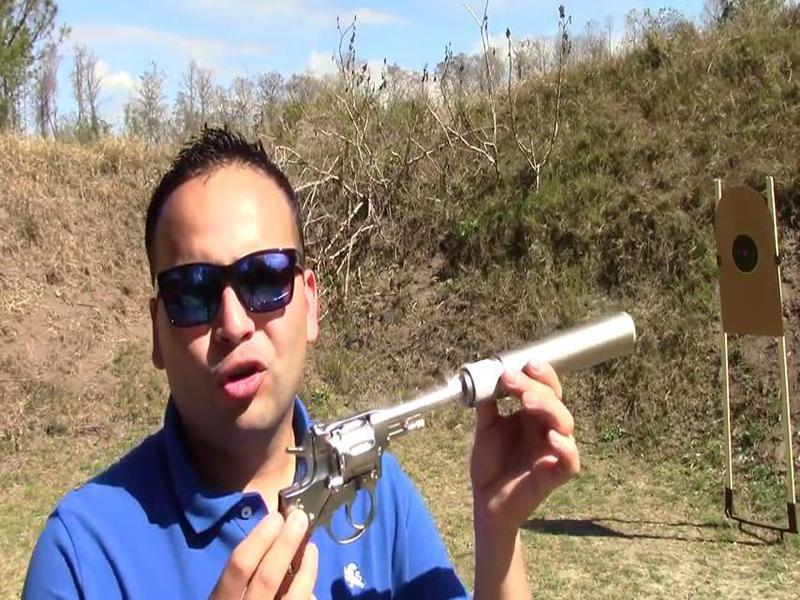Revolver: (256, 369, 475, 595)
